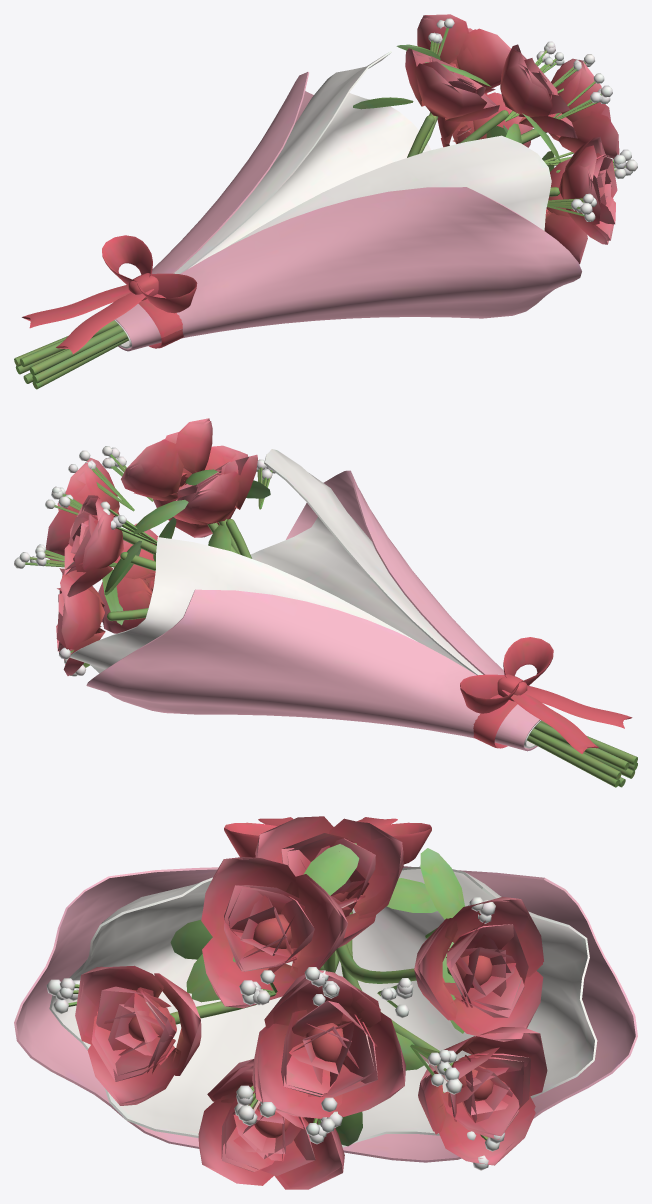
Rendered from rose-bouquet.glb.
The picture shows the model from 3 angles, top to bottom: view 1: azimuth 30°, elevation 25°; view 2: azimuth 150°, elevation 25°; view 3: azimuth 270°, elevation 25°; orthographic projection. The views are drawn at different scales.
Parts seen in each view (by area): view 1: rose-bouquet_body; view 2: rose-bouquet_body; view 3: rose-bouquet_body.
Part boxes in pixels (x1,y1,x2,y2): rose-bouquet_body: (14, 14, 637, 389); rose-bouquet_body: (14, 418, 637, 787); rose-bouquet_body: (14, 816, 637, 1189).
Size of the model in its own units: 0.4844 by 0.1873 by 0.3252.
1 material, 1 textured.
